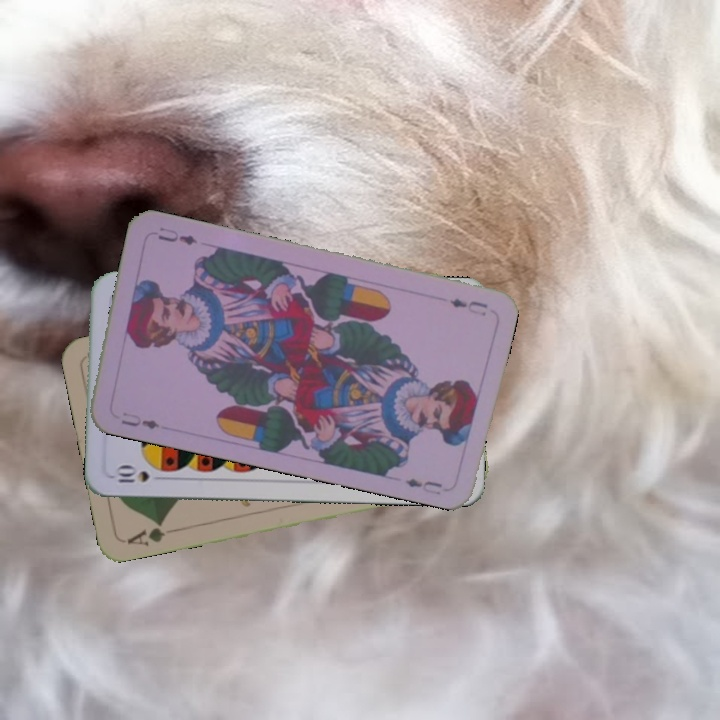EU: (117, 408, 162, 432), (445, 294, 490, 318)
GA: (123, 517, 180, 549)
S10: (109, 464, 152, 485)
